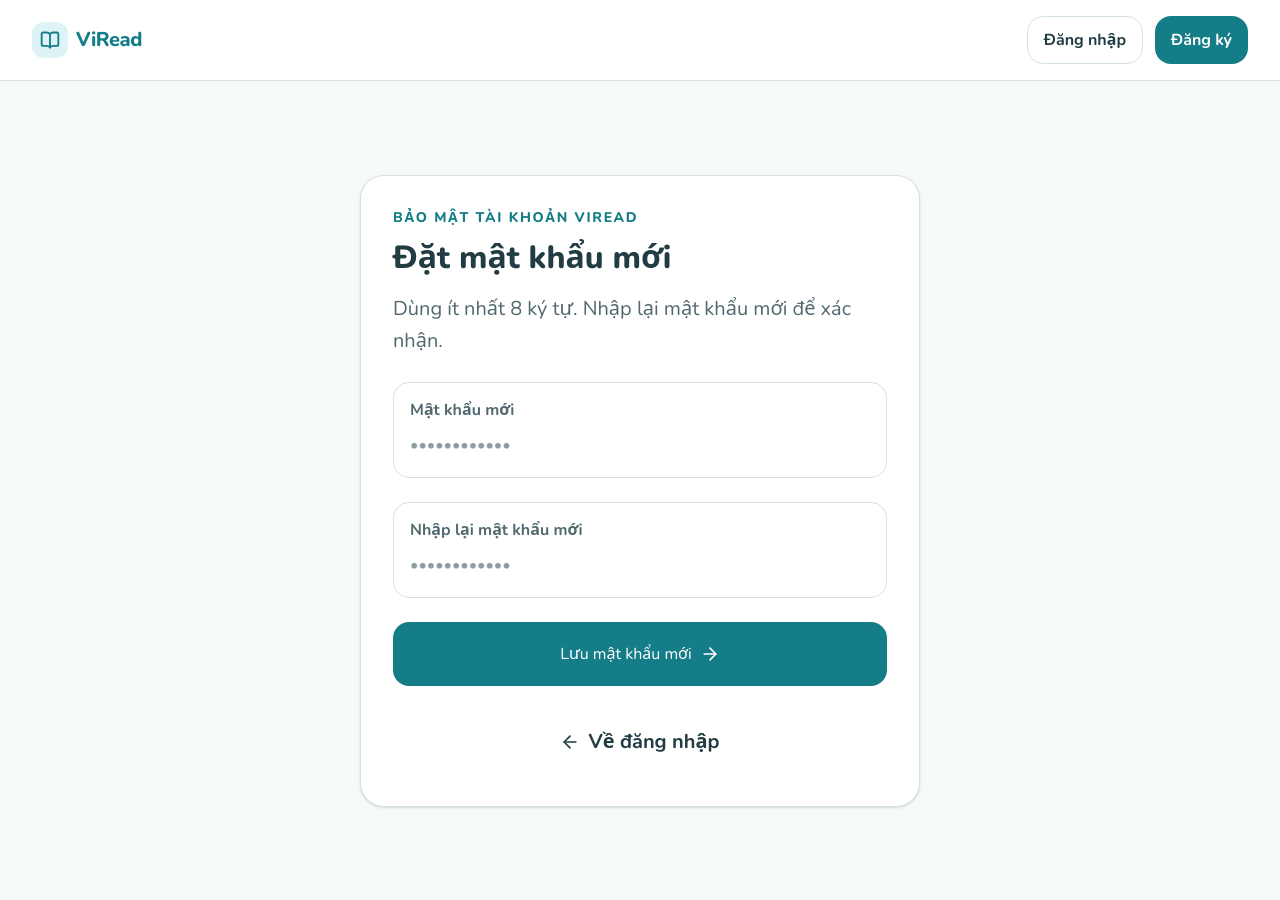
Scenario: ResetPasswordScreen › moves to success after a valid recovery service response
Type "matkhau123" into the password field labelled "Mật khẩu mới".
click(640, 445); type("matkhau123")  # box [410,429,870,461]
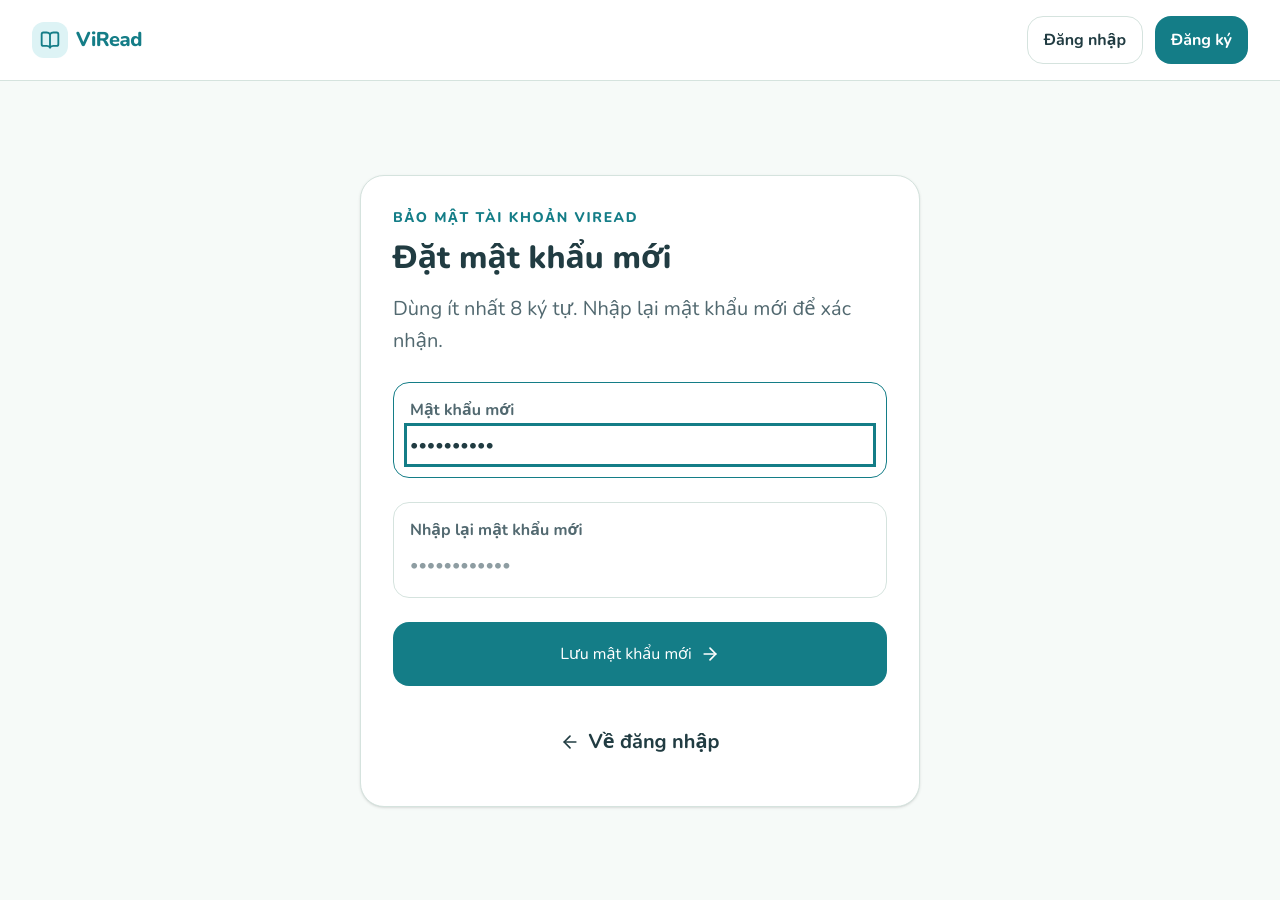
Type "matkhau123" into the password field labelled "Nhập lại mật khẩu mới".
click(640, 565); type("matkhau123")  # box [410,549,870,581]
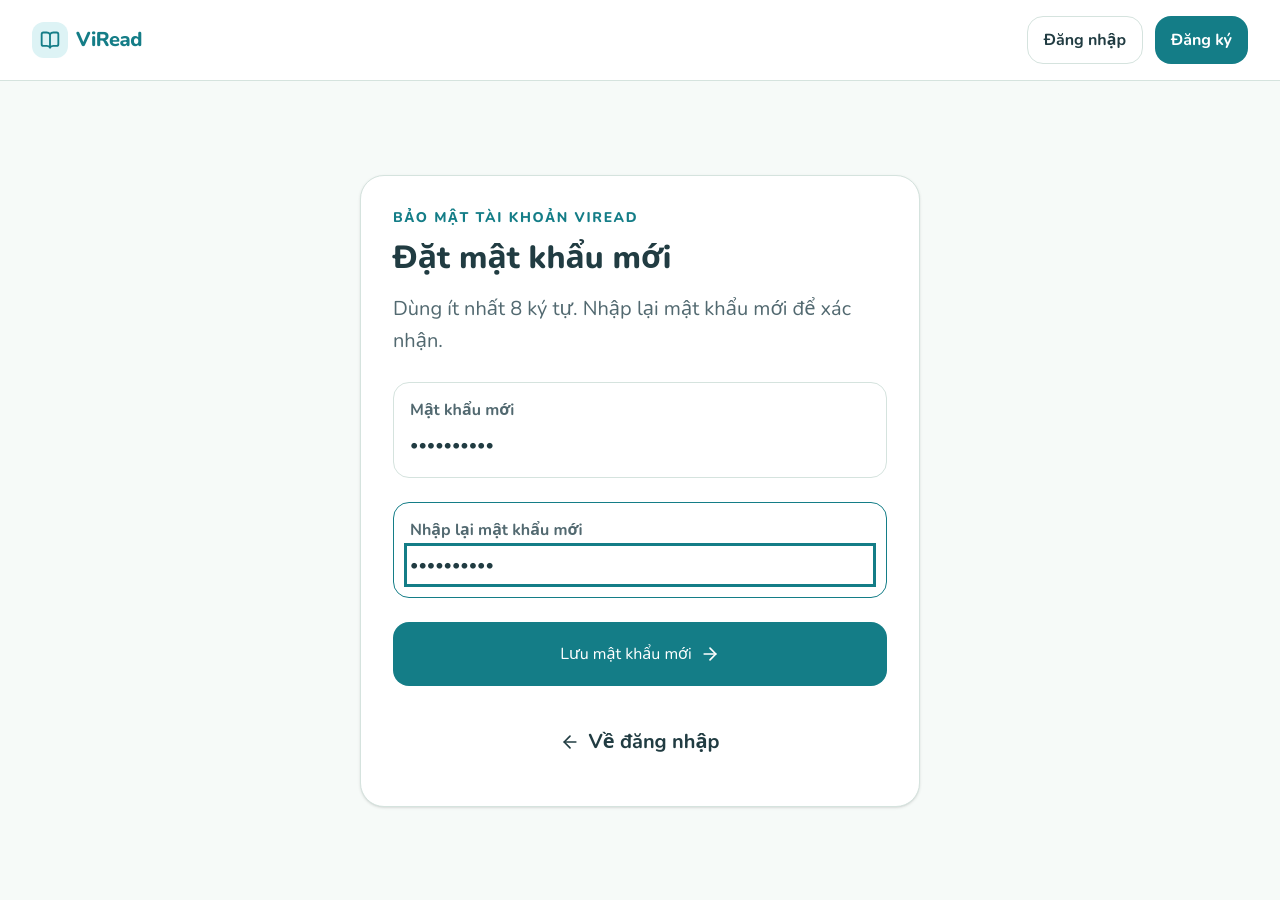
Click the button "Lưu mật khẩu mới".
click(640, 654)  # box [393,622,887,686]
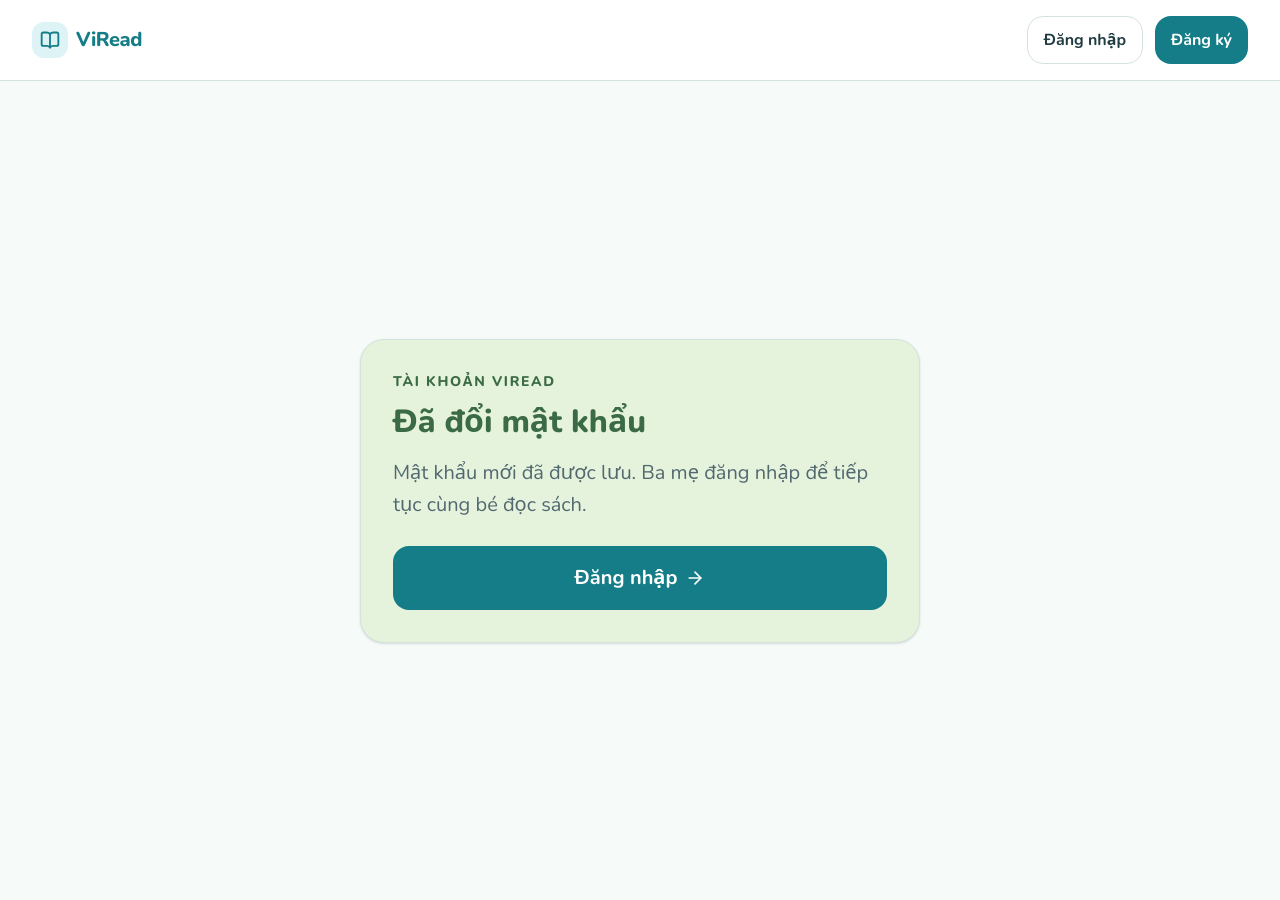
Now the heading "Đã đổi mật khẩu" is shown, box [393,400,646,443]
